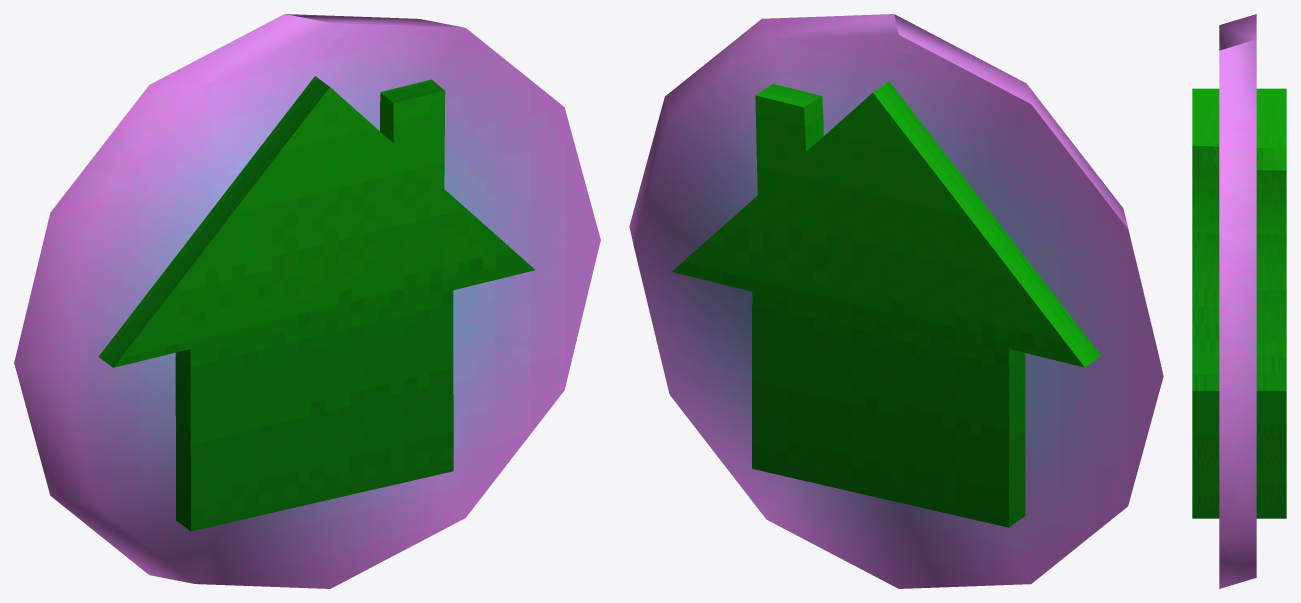
The model's file is Property4Sale.fbx.
The picture shows the model from 3 angles, left to right: view 1: azimuth 30°, elevation 25°; view 2: azimuth 150°, elevation 25°; view 3: azimuth 270°, elevation 25°; orthographic projection. The views are drawn at different scales.
Visible parts, largest first — view 1: property_fsale; view 2: property_fsale; view 3: property_fsale.
Part boxes in pixels (<box>): property_fsale: <box>14,14,600,588</box>; property_fsale: <box>629,14,1163,588</box>; property_fsale: <box>1192,14,1286,588</box>.
Size of the model in its own units: 62.8 by 60 by 10.
2 materials, 2 textured.
